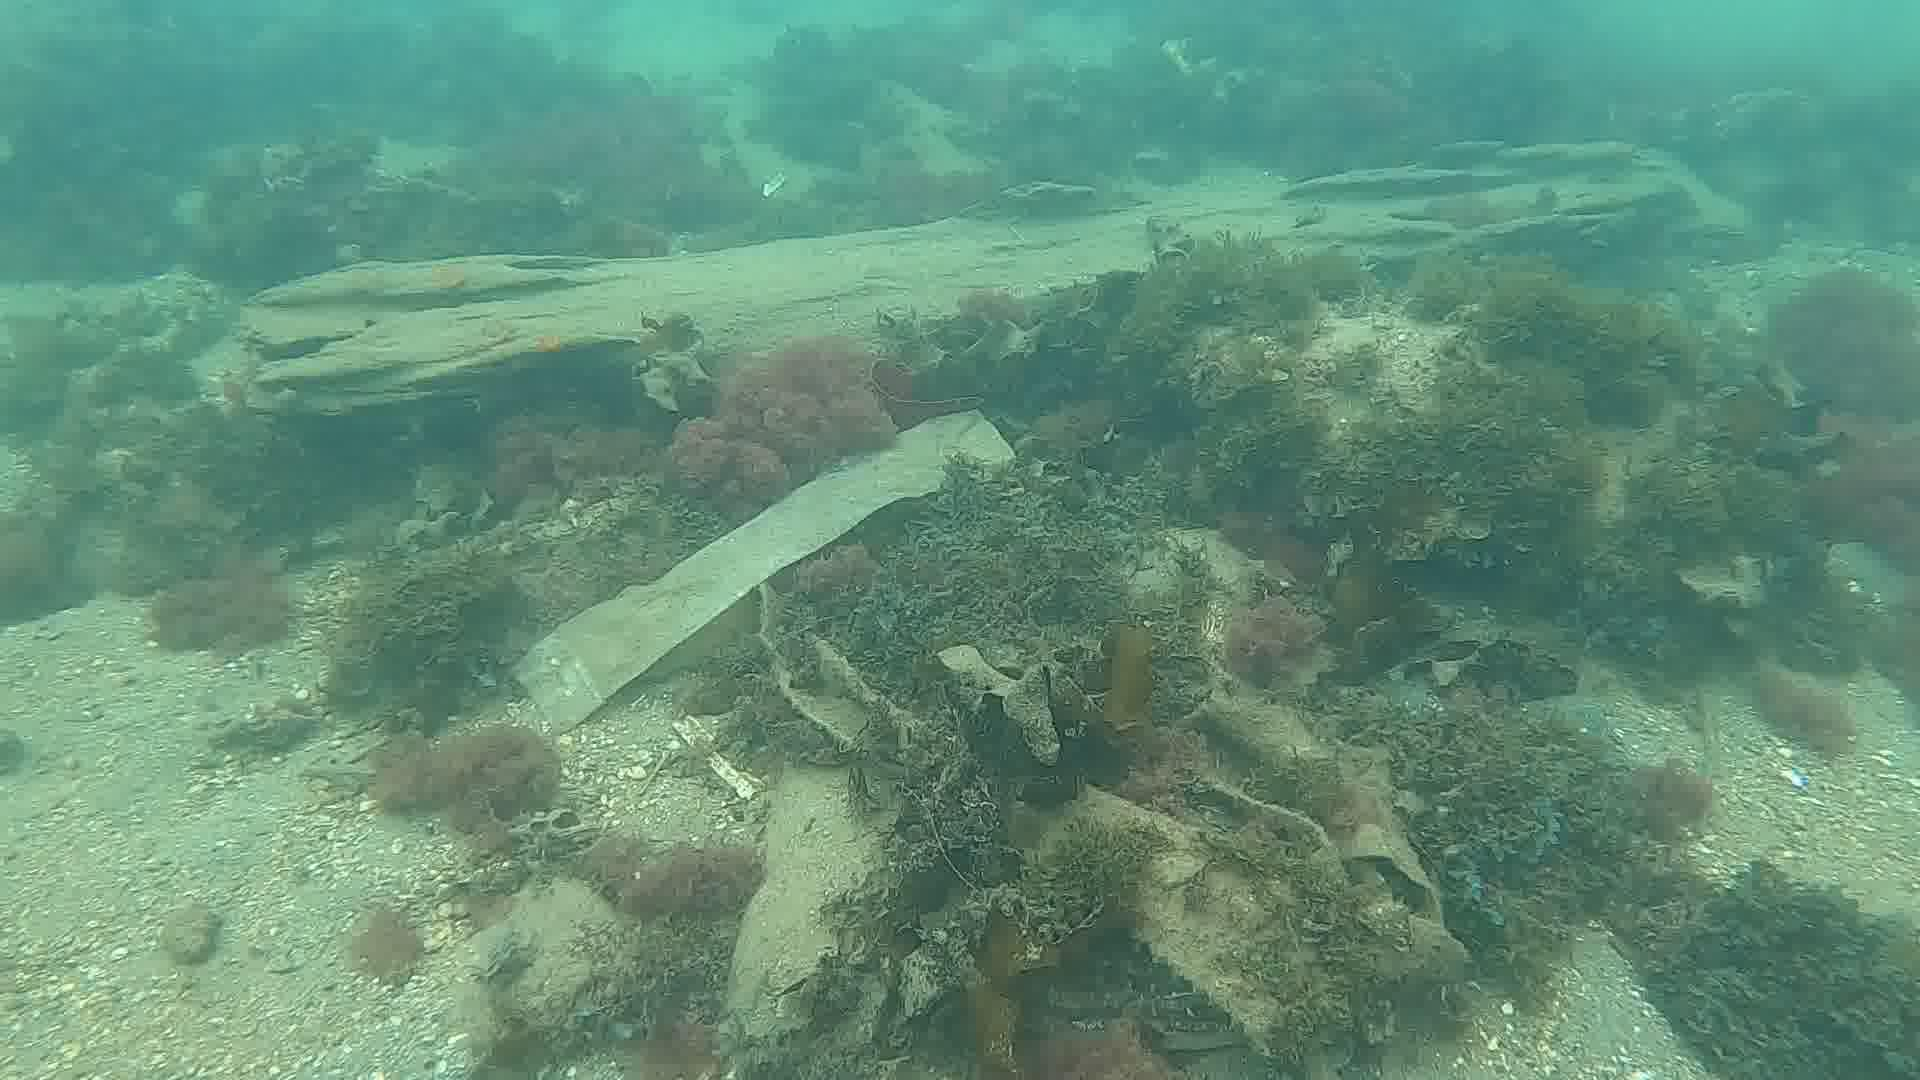wood: (239, 137, 1745, 429)
